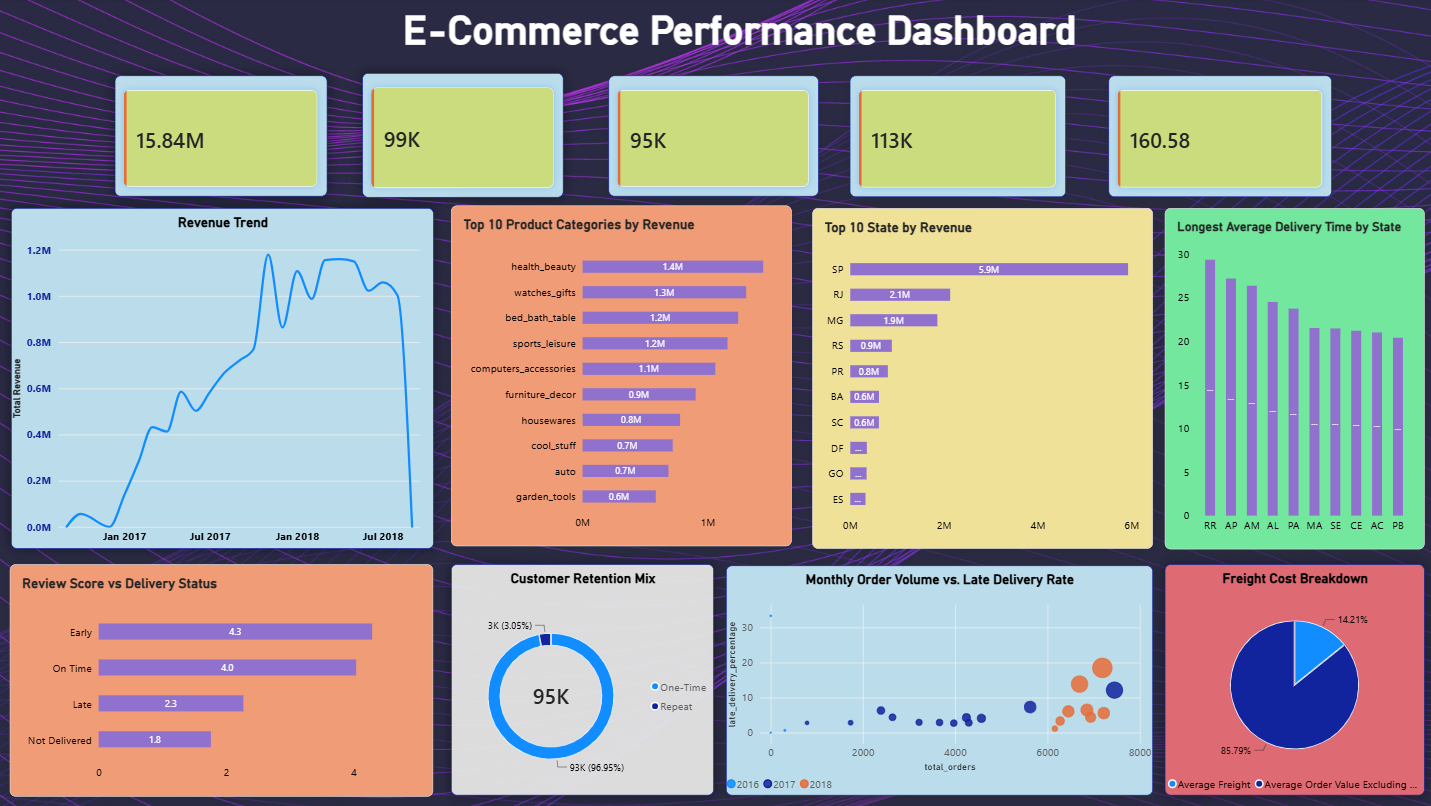

What the dashboard file says about the page in this screenshot:
{"tool":"powerbi","page":{"name":"Executive Overview","canvas":[1920,1080],"ordinal":0},"visuals":[{"type":"group","id":"g1","title":"Group 2","box":[159.2,100,1625.5,166.2],"z":0},{"type":"group","id":"g2","title":"Group 1","box":[159.2,103.5,1625.5,162.3],"z":0,"group":"g3"},{"type":"cardVisual","title":"Total Orders","fields":{"Data":["Sum(monthly_sales.total_orders)"]},"box":[490,100,268.5,166.2],"z":1000,"group":"g3"},{"type":"cardVisual","title":"Total Revenue","fields":{"Data":["Sum(monthly_sales.total_revenue)"]},"box":[159.2,103.9,283.7,161.9],"z":1000,"group":"g2"},{"type":"lineChart","title":"Revenue Trend","fields":{"Category":["monthly_sales.Month-Year"],"Y":["Sum(monthly_sales.total_revenue)"]},"box":[19.9,280.5,565,455],"z":1000},{"type":"barChart","title":"Top 10 Product Categories by Revenue","fields":{"Category":["category_performance.product_category_name_english"],"Y":["Sum(category_performance.total_revenue)"]},"box":[608,278,455,455],"z":2000},{"type":"cardVisual","title":"Total Customers","fields":{"Data":["Sum(customer_summary.total_customers)"]},"box":[818,103.9,280.8,161.9],"z":3000,"group":"g2"},{"type":"barChart","title":"Top 10 State by Revenue","fields":{"Category":["geographic_performance.customer_state"],"Y":["Sum(geographic_performance.total_revenue)"]},"box":[1090,280,455,455],"z":3000},{"type":"cardVisual","title":"Items Sold","fields":{"Data":["seller_performance.Items Sold"]},"box":[1141.8,103.5,288.7,162.1],"z":4000,"group":"g2"},{"type":"columnChart","title":"Longest Average Delivery Time by State","fields":{"Category":["delivery_performance.customer_state"],"Y":["Sum(delivery_performance.avg_delivery_days)"]},"box":[1562,280,347.1,455.7],"z":4000},{"type":"cardVisual","title":"Avg Order Value","fields":{"Data":["category_performance.Average Order Value"]},"box":[1486.6,103.5,298.1,162.1],"z":5000,"group":"g2"},{"type":"clusteredBarChart","title":"Review Score vs Delivery Status","fields":{"Category":["delivery_satisfaction.delivery_status"],"Y":["Sum(delivery_satisfaction.avg_review_score)"]},"box":[18.6,755.7,565.7,310],"z":5000},{"type":"donutChart","title":"Customer Retention Mix","fields":{"Category":["customer_summary.customer_type"],"Y":["Sum(customer_summary.total_customers)"]},"box":[608.6,757.1,351.4,308.6],"z":6000},{"type":"scatterChart","title":"Monthly Order Volume vs. Late Delivery Rate","fields":{"Series":["monthly_delivery.order_year"],"Size":["Sum(monthly_delivery.late_orders)"],"X":["monthly_delivery.total_orders"],"Y":["monthly_delivery.late_delivery_percentage"]},"box":[975.7,758.6,570,307.1],"z":7000},{"type":"pieChart","title":"Freight Cost Breakdown","fields":{"Y":["category_performance.Average Freight","monthly_delivery.Average Order Value Excluding Freight"]},"box":[1561.4,757.1,347.1,308.6],"z":8000},{"type":"group","id":"g3","title":"Group 3","box":[159.2,100,1625.5,166.2],"z":8001,"group":"g1"},{"type":"textbox","box":[489.9,12.5,1008.5,87.6],"z":9000}]}

Visuals, with their boxes in screenshot pixels (x1, y1, x2, y2), scaled from the page's 1920x1080 canvas onto the 1431x806 screenshot:
"Group 2" group: [x1=119, y1=75, x2=1330, y2=199]
"Group 1" group: [x1=119, y1=77, x2=1330, y2=198]
"Total Orders" cardVisual: [x1=365, y1=75, x2=565, y2=199]
"Total Revenue" cardVisual: [x1=119, y1=78, x2=330, y2=198]
"Revenue Trend" lineChart: [x1=15, y1=209, x2=436, y2=549]
"Top 10 Product Categories by Revenue" barChart: [x1=453, y1=207, x2=792, y2=547]
"Total Customers" cardVisual: [x1=610, y1=78, x2=819, y2=198]
"Top 10 State by Revenue" barChart: [x1=812, y1=209, x2=1152, y2=549]
"Items Sold" cardVisual: [x1=851, y1=77, x2=1066, y2=198]
"Longest Average Delivery Time by State" columnChart: [x1=1164, y1=209, x2=1423, y2=549]
"Avg Order Value" cardVisual: [x1=1108, y1=77, x2=1330, y2=198]
"Review Score vs Delivery Status" clusteredBarChart: [x1=14, y1=564, x2=435, y2=795]
"Customer Retention Mix" donutChart: [x1=454, y1=565, x2=716, y2=795]
"Monthly Order Volume vs. Late Delivery Rate" scatterChart: [x1=727, y1=566, x2=1152, y2=795]
"Freight Cost Breakdown" pieChart: [x1=1164, y1=565, x2=1422, y2=795]
"Group 3" group: [x1=119, y1=75, x2=1330, y2=199]
textbox: [x1=365, y1=9, x2=1117, y2=75]
